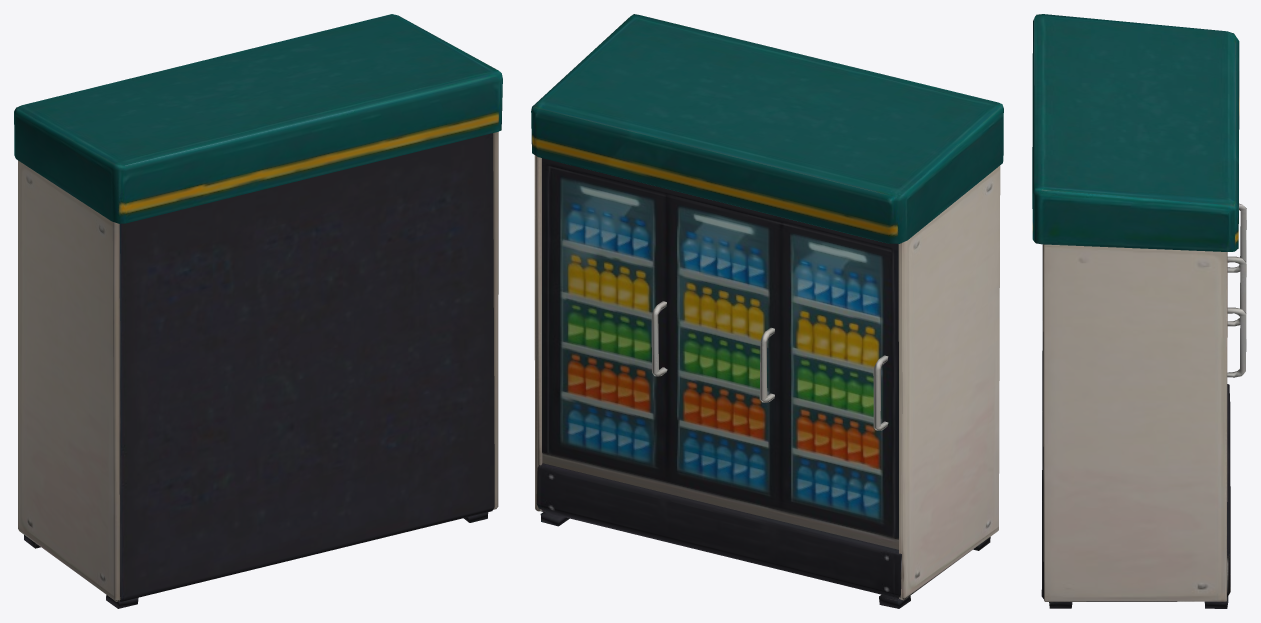
File: refrigerator.glb
3 views of the same model, side by side, from view 1: azimuth 30°, elevation 25°; view 2: azimuth 150°, elevation 25°; view 3: azimuth 270°, elevation 25° (orthographic). The views are drawn at different scales.
Visible parts, largest first — view 1: meshy-refrigerator; view 2: meshy-refrigerator; view 3: meshy-refrigerator.
Part boxes in pixels (x1,y1,x2,y2): meshy-refrigerator: [14, 14, 502, 608]; meshy-refrigerator: [531, 14, 1003, 608]; meshy-refrigerator: [1032, 14, 1246, 608].
Bounding box in the file's own units: 2.13 × 2.35 × 1.08.
1 material, 1 textured.
